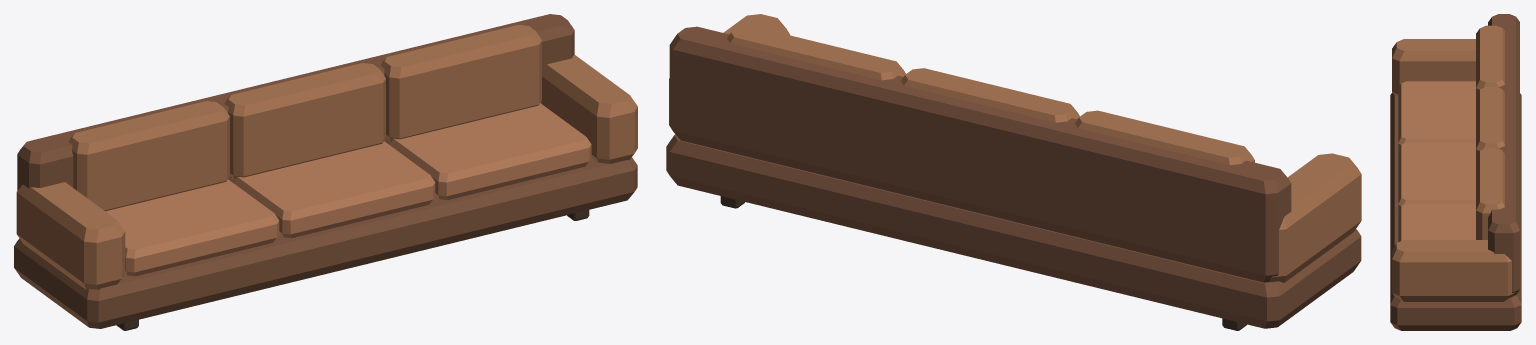
Rendered from sofa-recepcao.obj.
3 renders of one model, left to right at view 1: azimuth 30°, elevation 25°; view 2: azimuth 150°, elevation 25°; view 3: azimuth 270°, elevation 25°, orthographic. The views are drawn at different scales.
Visible parts, largest first — view 1: sofa-recepcao_tecido, sofa-recepcao_base, sofa-recepcao_assento; view 2: sofa-recepcao_base, sofa-recepcao_tecido; view 3: sofa-recepcao_tecido, sofa-recepcao_assento, sofa-recepcao_base.
Part boxes in pixels (<box>): sofa-recepcao_tecido: <box>16,25,637,289</box>; sofa-recepcao_base: <box>14,14,637,328</box>; sofa-recepcao_assento: <box>105,103,591,276</box>; sofa-recepcao_base: <box>666,26,1361,328</box>; sofa-recepcao_tecido: <box>669,14,1361,282</box>; sofa-recepcao_tecido: <box>1392,25,1515,301</box>; sofa-recepcao_assento: <box>1398,81,1475,241</box>; sofa-recepcao_base: <box>1390,14,1521,330</box>.
Size of the model in its own units: 3.37 by 0.884 by 0.86.
